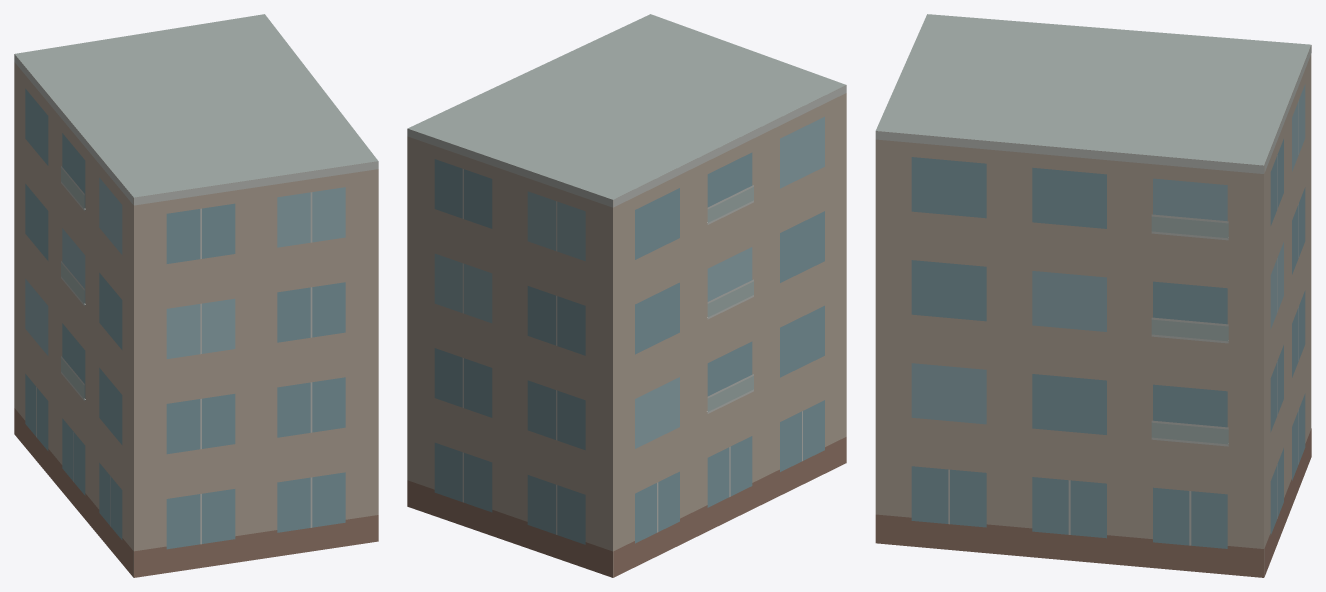
File: survey-upis-32652604.glb
The picture shows the model from 3 angles, left to right: view 1: azimuth 30°, elevation 25°; view 2: azimuth 150°, elevation 25°; view 3: azimuth 270°, elevation 25°; orthographic projection. The views are drawn at different scales.
Visible parts, largest first — view 1: survey-upis-32652604.tmp; view 2: survey-upis-32652604.tmp; view 3: survey-upis-32652604.tmp.
Boxes of the visible parts, x1,y1,x2,y2 form: survey-upis-32652604.tmp: [14, 14, 378, 577]; survey-upis-32652604.tmp: [407, 14, 846, 577]; survey-upis-32652604.tmp: [875, 14, 1311, 577].
Size of the model in its own units: 9.23 by 11.7 by 11.22.
